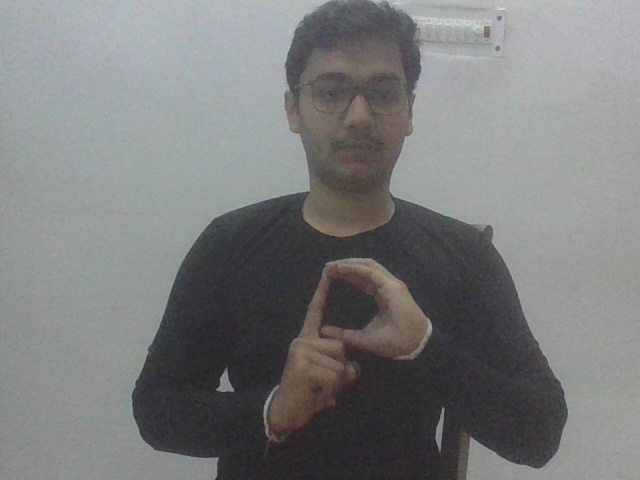D: (260, 256, 434, 443)
